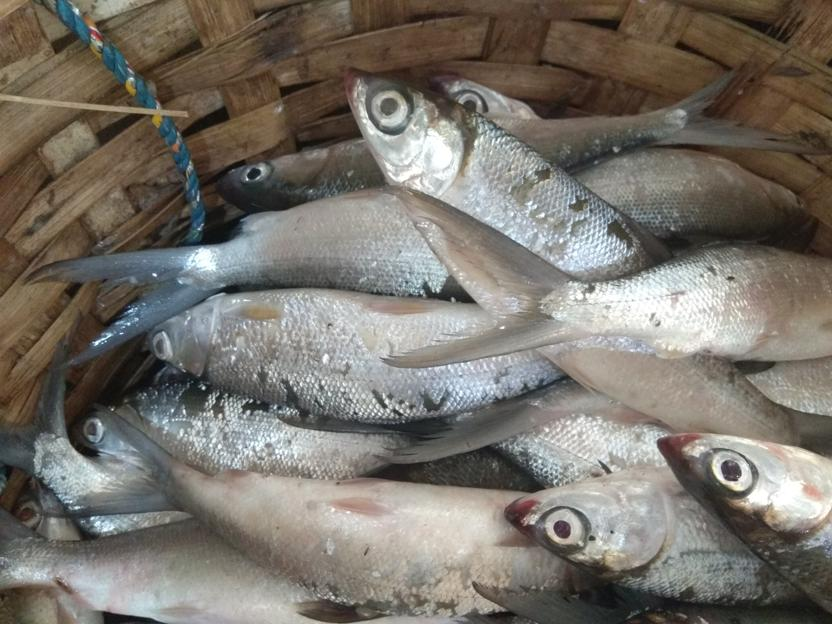Fish head: (655, 432, 830, 545), (501, 472, 672, 580), (342, 64, 472, 190), (220, 142, 334, 211), (71, 403, 183, 472), (143, 292, 229, 380), (435, 72, 542, 122), (13, 485, 84, 541), (763, 175, 822, 232)
Fish tail: (377, 186, 589, 370), (22, 242, 215, 377), (38, 400, 208, 518), (372, 383, 580, 467), (653, 59, 828, 156), (1, 335, 76, 475), (470, 576, 626, 621), (275, 406, 402, 436)
